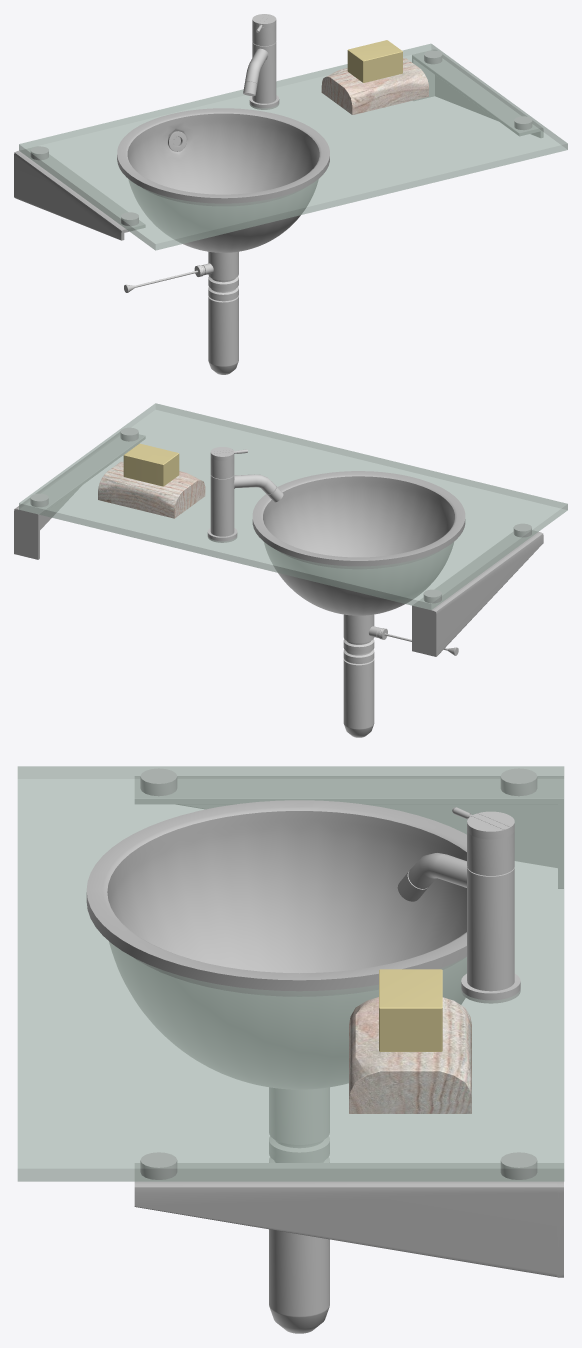
The model's file is sh_scopia_bathroom3.glb.
3 renders of one model, top to bottom at view 1: azimuth 30°, elevation 25°; view 2: azimuth 150°, elevation 25°; view 3: azimuth 270°, elevation 25°, orthographic. The views are drawn at different scales.
Bounding box in the file's own units: 0.719 × 0.484 × 0.403.
8 materials, 2 textured.
